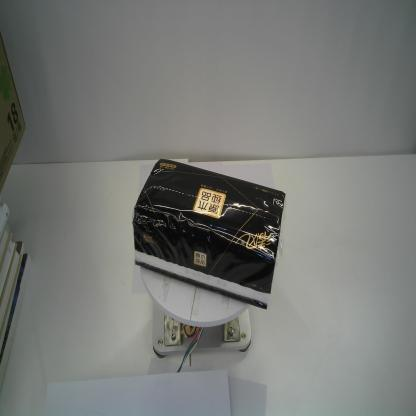Tissue: (130, 158, 287, 312)
